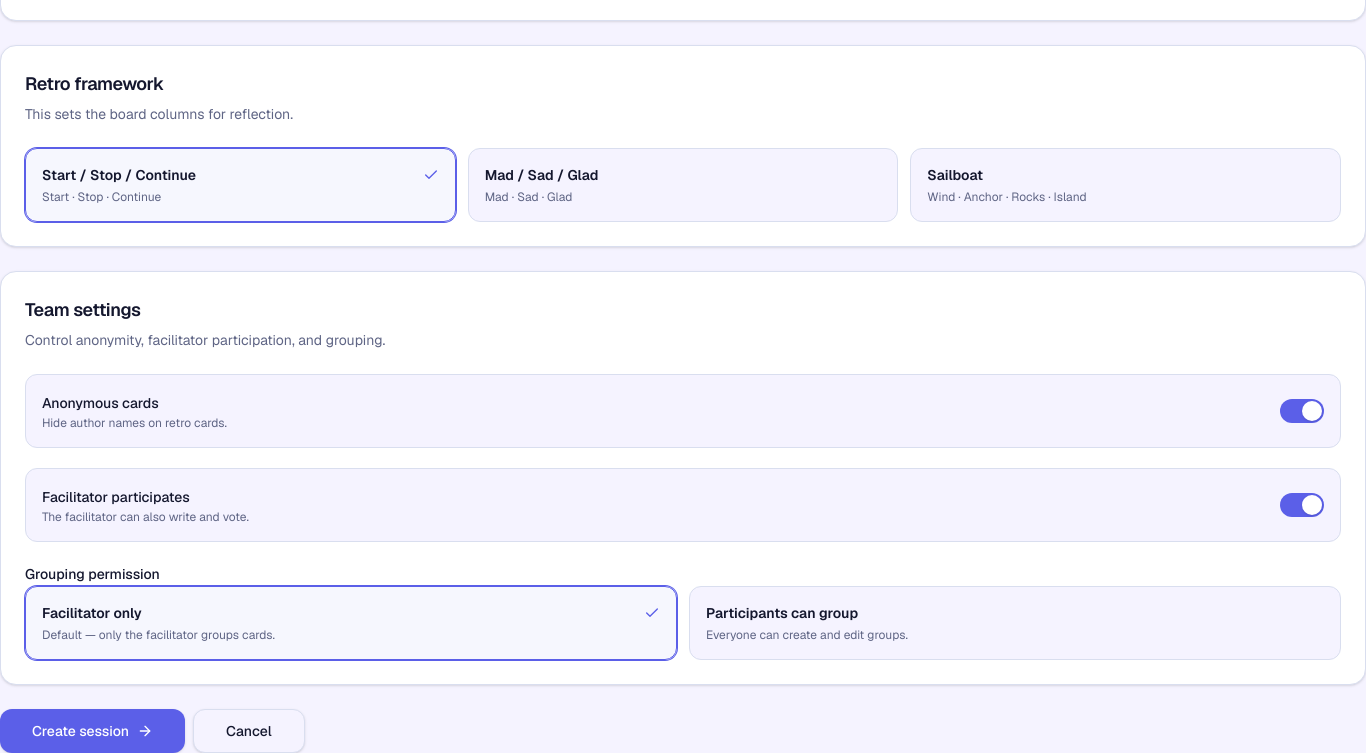
Test case: SessionCreateForm validation › blocks submission and shows an error when the name is empty
(page scrolled)
Click the button "Create session": (92, 731) x1=0 y1=709 x2=185 y2=752
(page scrolled)
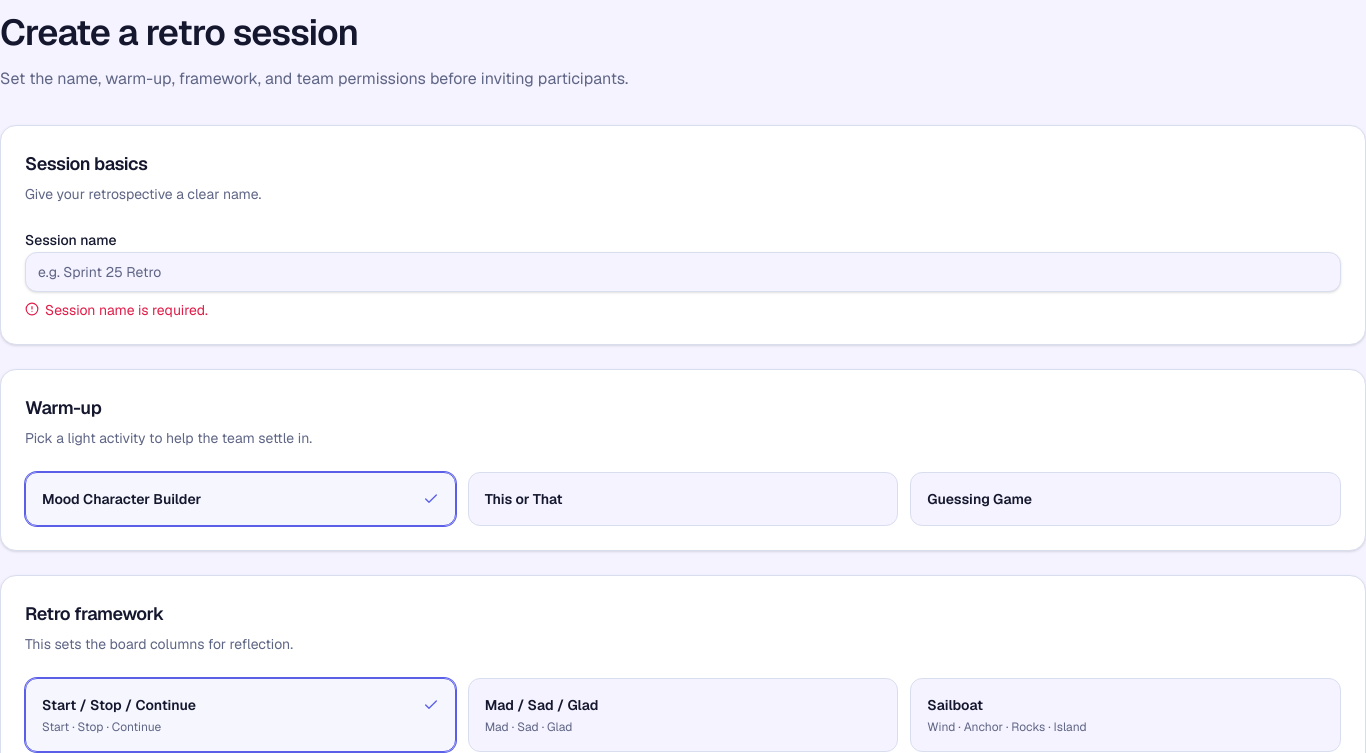
Result: the text "Session name is required." is shown at x1=45 y1=300 x2=208 y2=320
